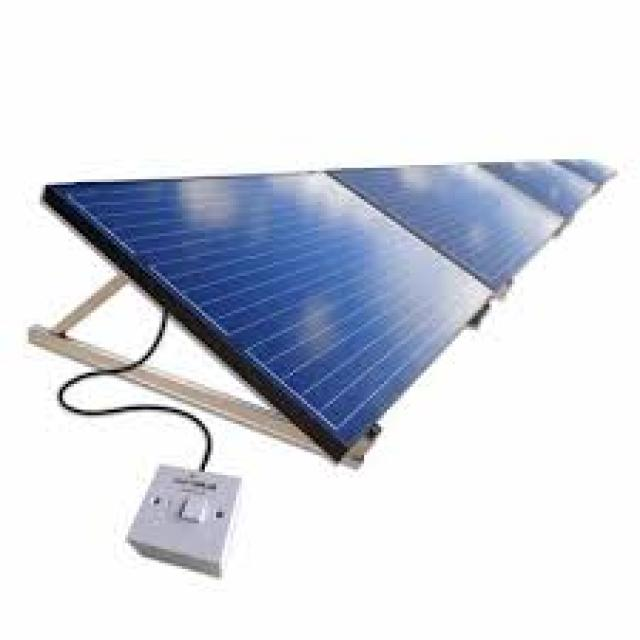clean-solar-panel: (46, 160, 612, 460)
